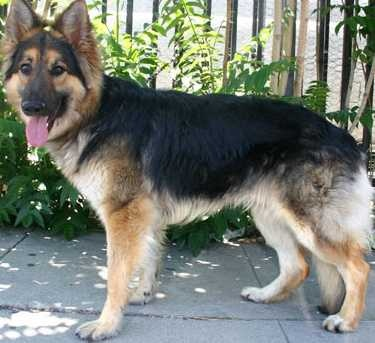dog: (7, 13, 375, 314)
